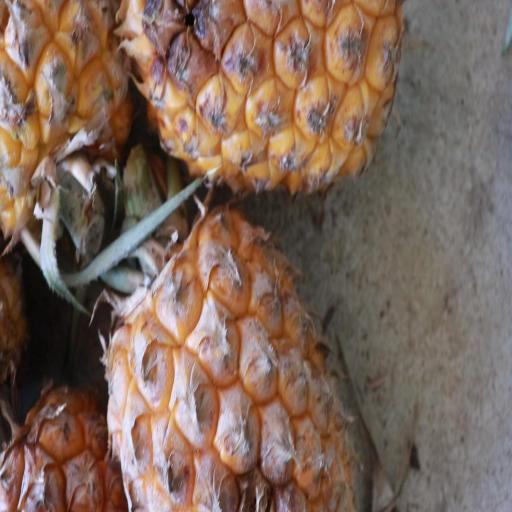Pineapple - v8 v1: (97, 196, 356, 512), (104, 0, 402, 195)
